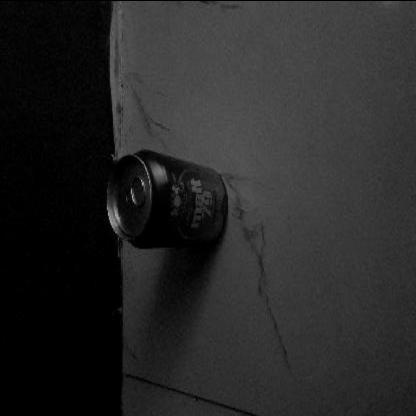alumunium_can: (102, 150, 230, 250)
